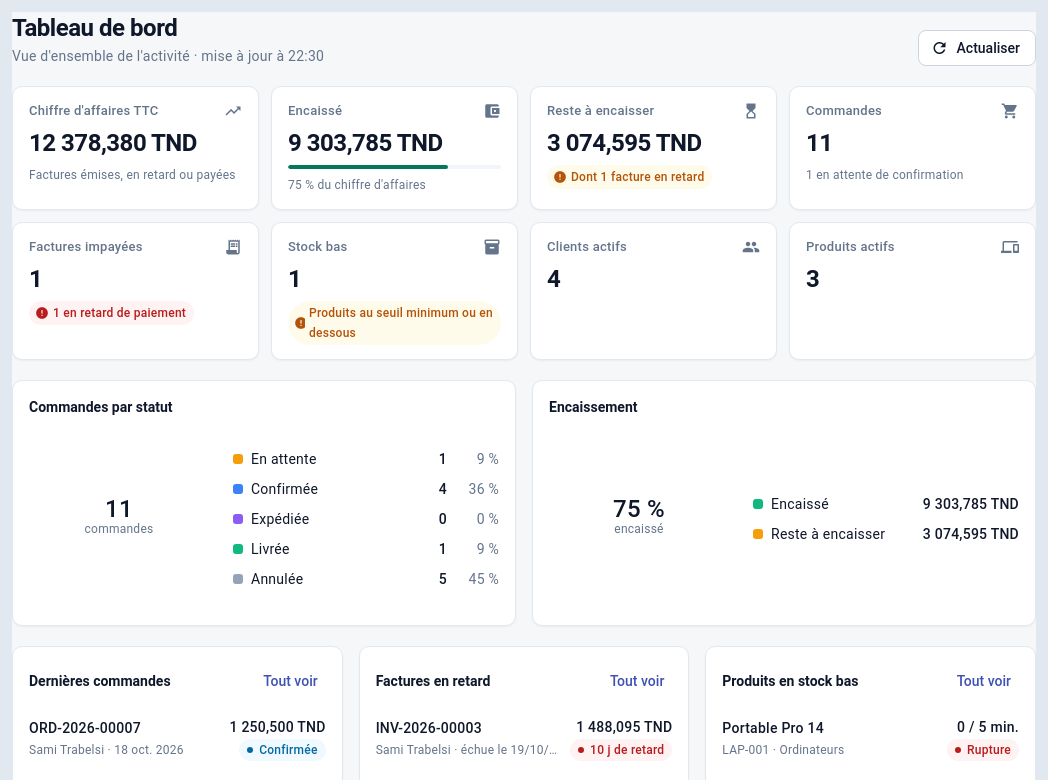
Test: DashboardComponent › keeps the figures on screen while refreshing
Click the button with id "refresh-button" at (977, 48), box [918, 30, 1036, 66]
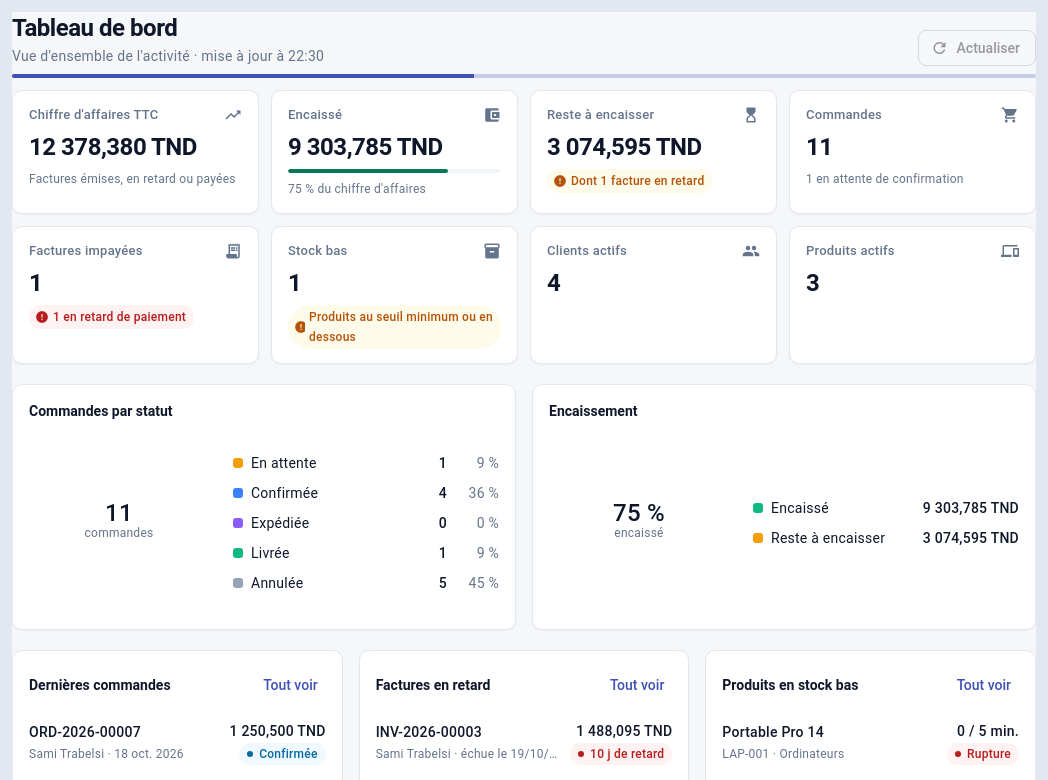
Result: the progress indicator with class "refresh-bar" is shown at [12, 74, 1036, 78]
Result: the button with id "refresh-button" is disabled at [918, 30, 1036, 66]
